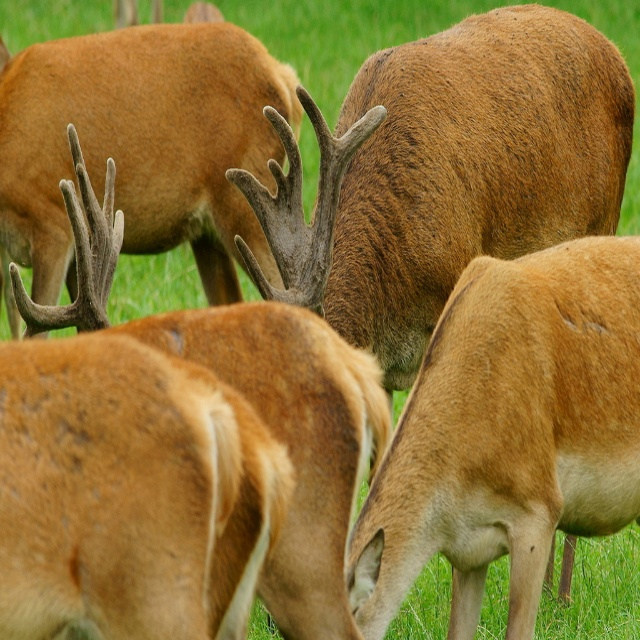Deer: (0, 17, 640, 639)
